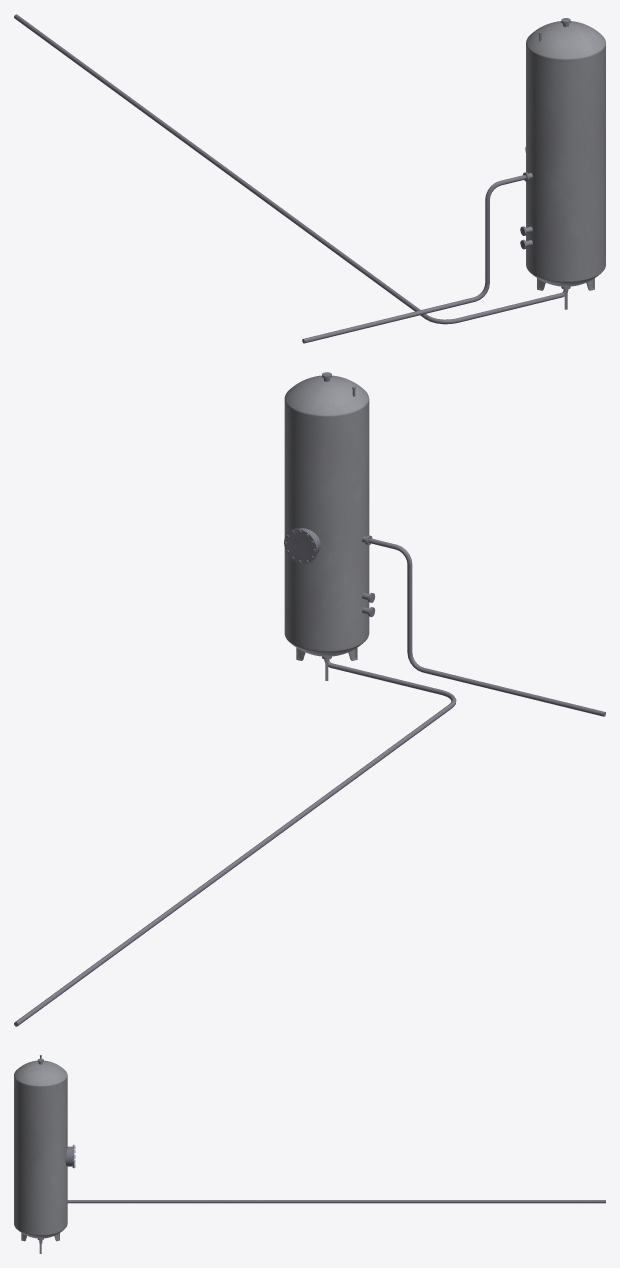
The model's file is Газовый_сепаратор_новый_ready.obj.
3 renders of one model, top to bottom at view 1: azimuth 30°, elevation 25°; view 2: azimuth 150°, elevation 25°; view 3: azimuth 270°, elevation 25°, orthographic. The views are drawn at different scales.
Visible parts, largest first — view 1: Цилиндр.1100, Куб.145, Куб.146, Цилиндр.082; view 2: Цилиндр.082, Цилиндр.1100, Куб.145, Куб.146, Цилиндр.124; view 3: Цилиндр.1100, Куб.145, Цилиндр.082.
Part boxes in pixels (left/top/right/bottom): Цилиндр.1100: left=526, top=21, right=605, bottom=286; Куб.145: left=14, top=14, right=568, bottom=324; Куб.146: left=302, top=175, right=526, bottom=343; Цилиндр.082: left=526, top=22, right=563, bottom=272; Цилиндр.082: left=284, top=381, right=363, bottom=656; Цилиндр.1100: left=284, top=375, right=369, bottom=656; Куб.145: left=14, top=659, right=456, bottom=1026; Куб.146: left=368, top=538, right=605, bottom=716; Цилиндр.124: left=284, top=528, right=320, bottom=563; Цилиндр.1100: left=14, top=1060, right=67, bottom=1238; Куб.145: left=39, top=1200, right=605, bottom=1243; Цилиндр.082: left=40, top=1060, right=67, bottom=1238.
Bounding box in the file's own units: 11.59 × 10.3 × 29.85.
Materials: 18 (5 with a texture image).
